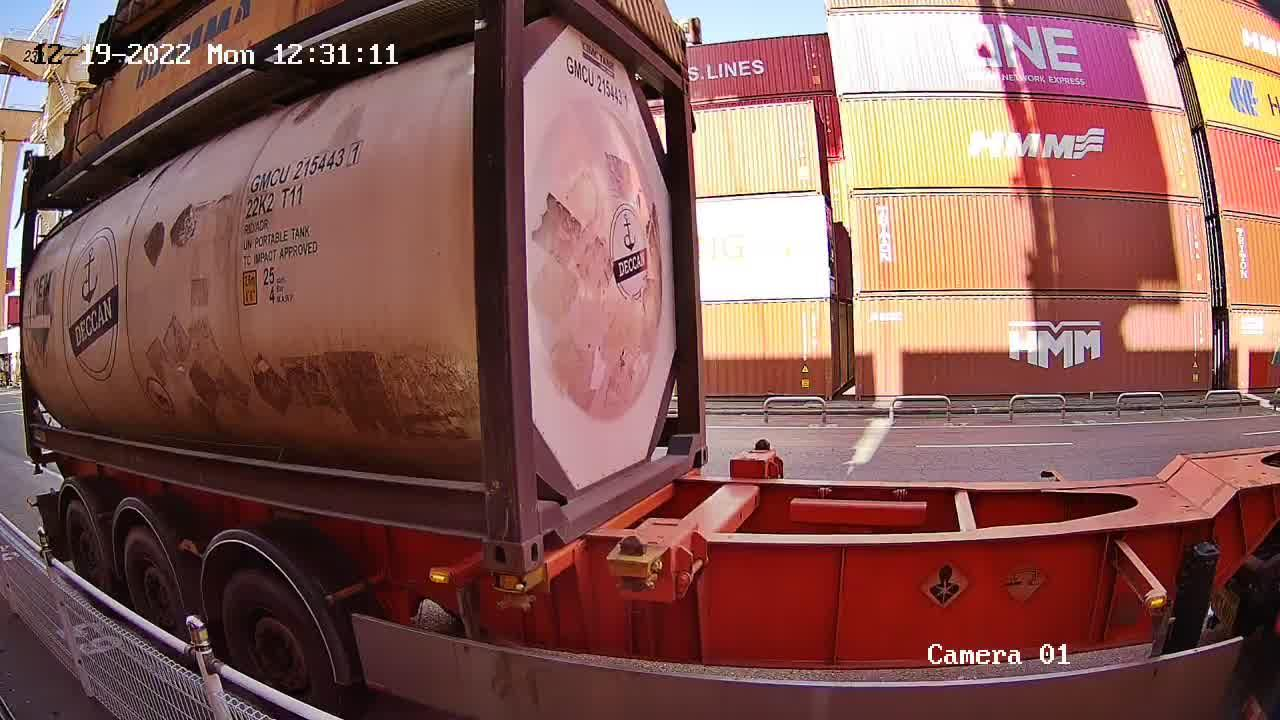Chassis: (524, 465, 703, 597)
Cone: (493, 573, 539, 610)
Hole_L: (520, 490, 575, 573)
Hole_R: (445, 501, 522, 573), (670, 416, 711, 477)
Tire: (224, 574, 335, 703), (125, 534, 183, 634), (67, 504, 105, 581)
